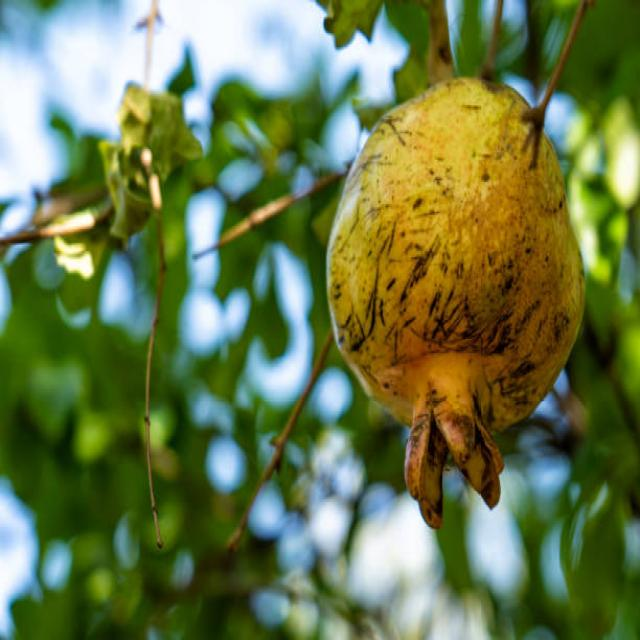Unripe: (324, 74, 586, 528)
